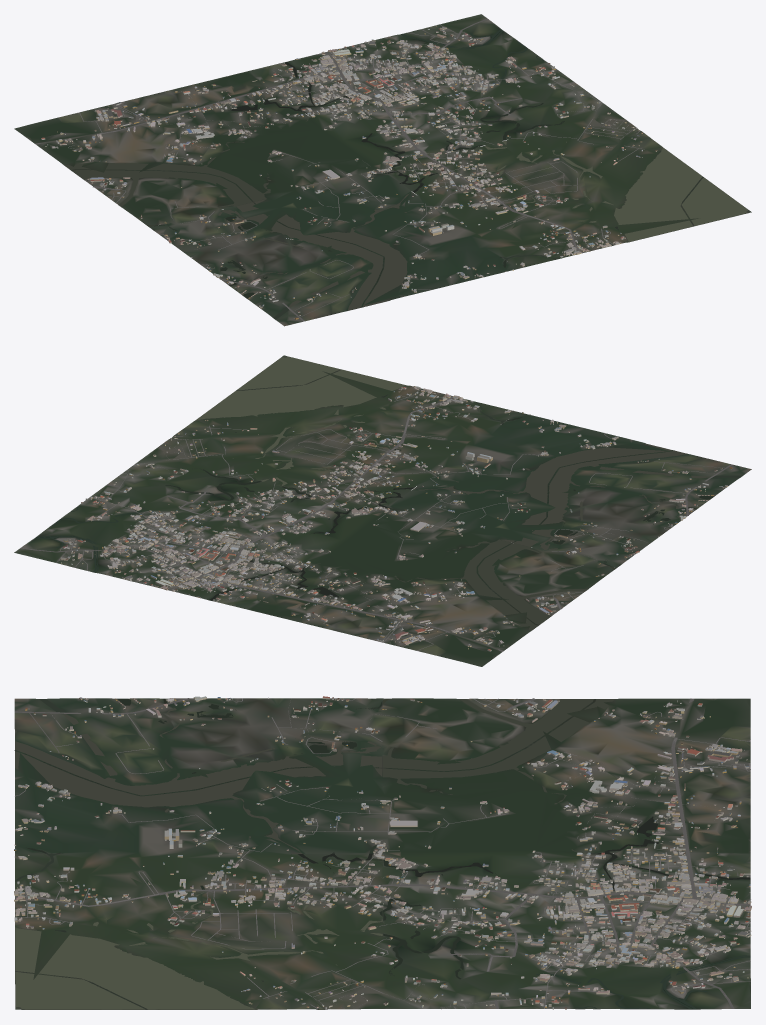
The picture shows the model from 3 angles, top to bottom: view 1: azimuth 30°, elevation 25°; view 2: azimuth 150°, elevation 25°; view 3: azimuth 270°, elevation 25°; orthographic projection. The views are drawn at different scales.
Visible parts, largest first — view 1: ground, buildings, water, roads; view 2: ground, buildings, water, roads; view 3: ground, water, buildings, roads.
Part boxes in pixels (left/top/right/bottom): ground: left=14, top=14, right=751, bottom=326; buildings: left=41, top=25, right=657, bottom=319; water: left=64, top=29, right=747, bottom=319; roads: left=35, top=18, right=644, bottom=321; ground: left=14, top=355, right=751, bottom=666; buildings: left=60, top=386, right=732, bottom=651; water: left=34, top=356, right=742, bottom=630; roads: left=20, top=388, right=732, bottom=651; ground: left=14, top=698, right=750, bottom=1009; water: left=14, top=698, right=750, bottom=1009; buildings: left=14, top=696, right=751, bottom=1009; roads: left=14, top=698, right=750, bottom=1009.
Bounding box in the file's own units: 2810 × 29.33 × 2810.
